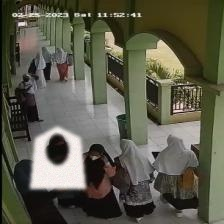Mukena: (29, 126, 85, 188)
